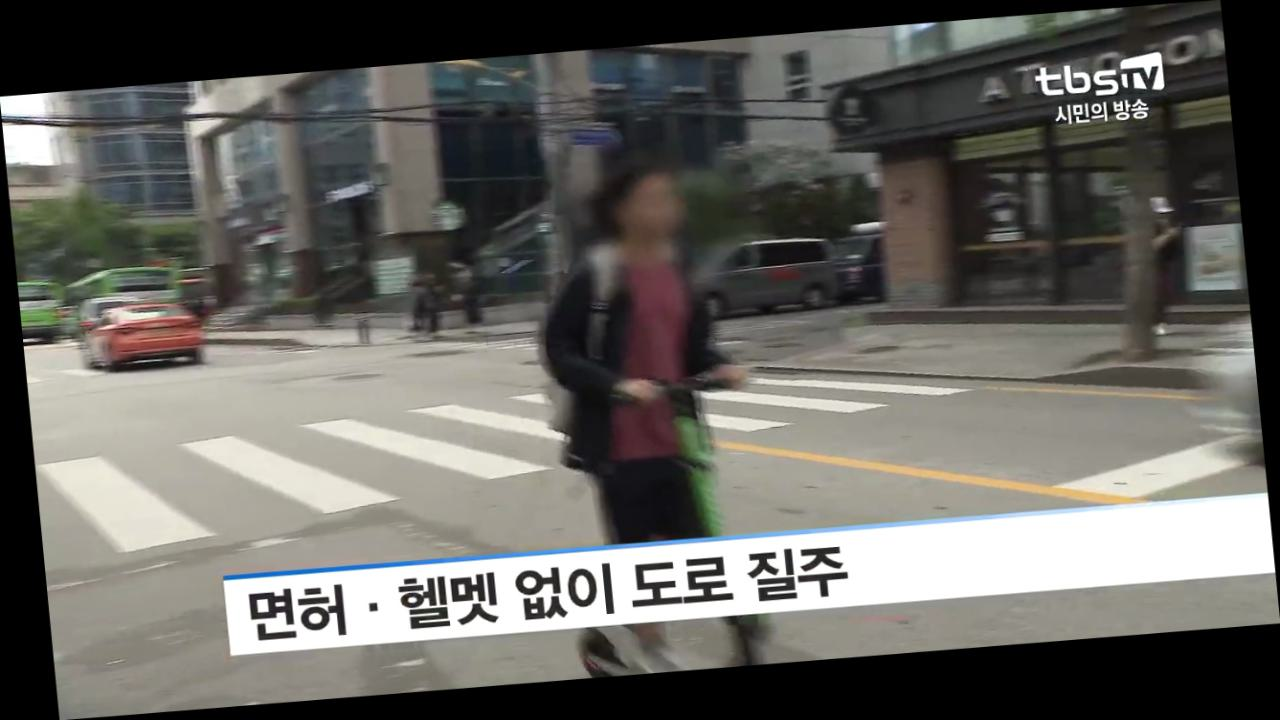nonhelmet: (513, 152, 807, 680)
